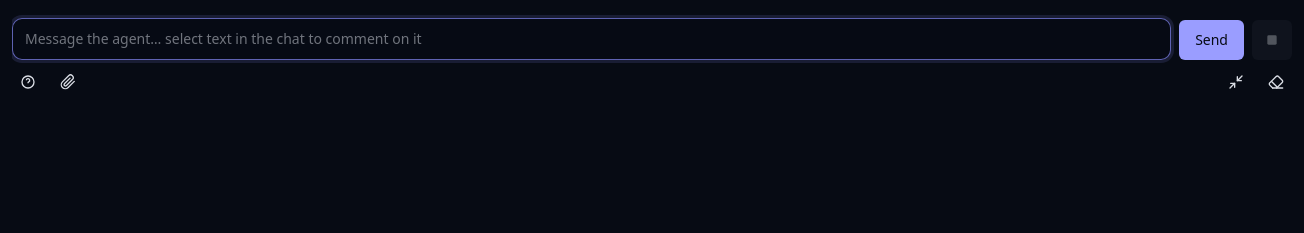
Test case: a lone slash offers the whole list, the user's own first as the server ordered it
The width and height of the screenshot is (1304, 233).
In the text box: (592, 39) x1=12 y1=18 x2=1171 y2=60, type "/"
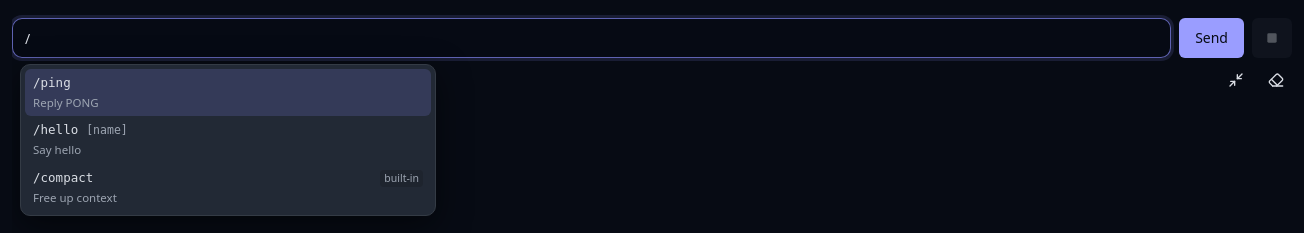
expect the text "built-in" is shown: met, box x1=380 y1=170 x2=423 y2=187
expect the text "[name]" is shown: met, box x1=86 y1=121 x2=128 y2=140
